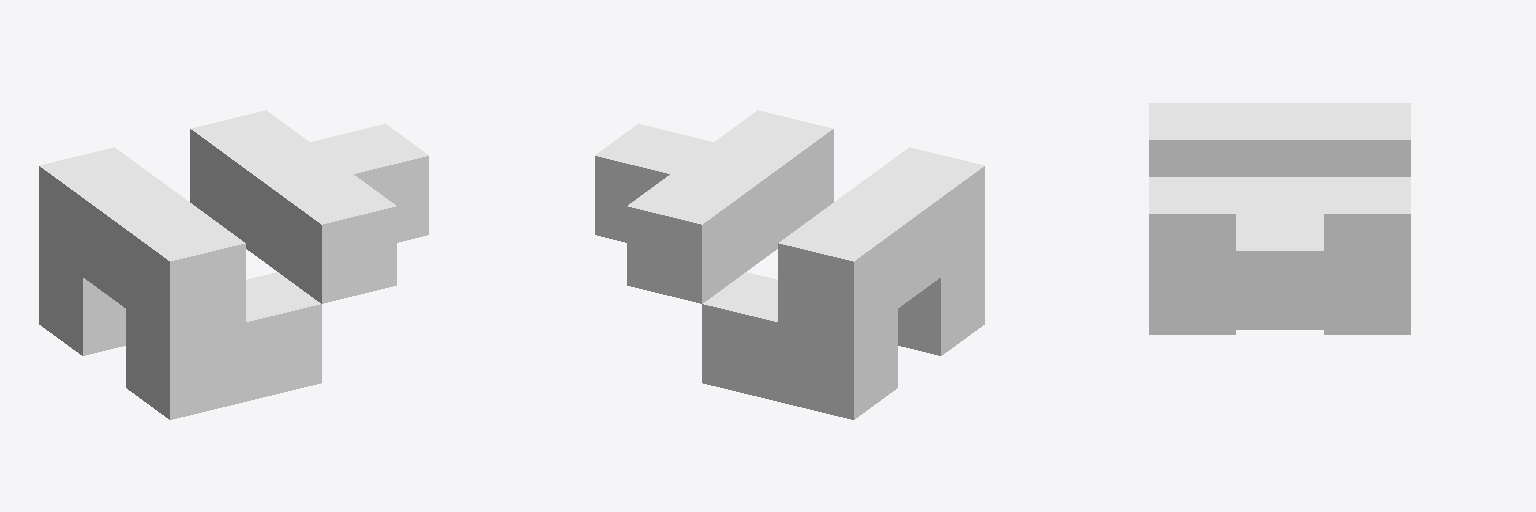
Rendered from Leg-59.obj.
3 views of the same model, side by side, from view 1: azimuth 30°, elevation 25°; view 2: azimuth 150°, elevation 25°; view 3: azimuth 270°, elevation 25° (orthographic).
Parts seen in each view (by area): view 1: object 1; view 2: object 1; view 3: object 1.
Part boxes in pixels (left/top/right/bottom): object 1: left=39, top=110, right=428, bottom=419; object 1: left=595, top=110, right=984, bottom=419; object 1: left=1149, top=103, right=1410, bottom=334.
Bounding box in the file's own units: 0.4 × 0.2 × 0.3.